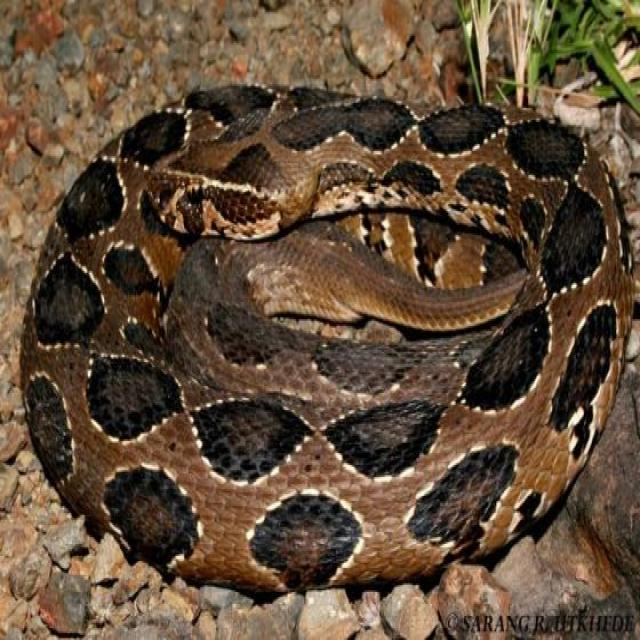Snake: (18, 81, 634, 594)
